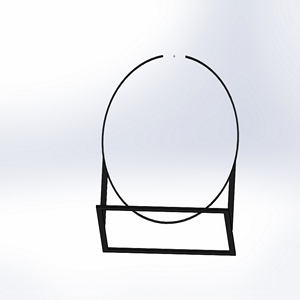circle: (93, 49, 240, 260)
